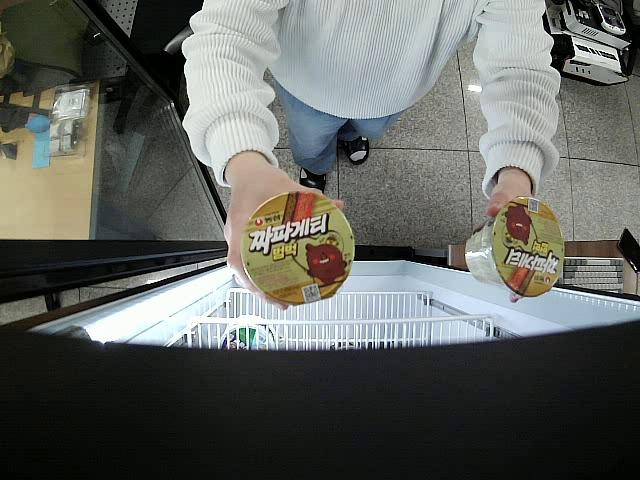00_hand: (223, 148, 344, 310), (489, 170, 535, 305)
04_chapagetti_S: (238, 189, 356, 303), (465, 202, 567, 297)
